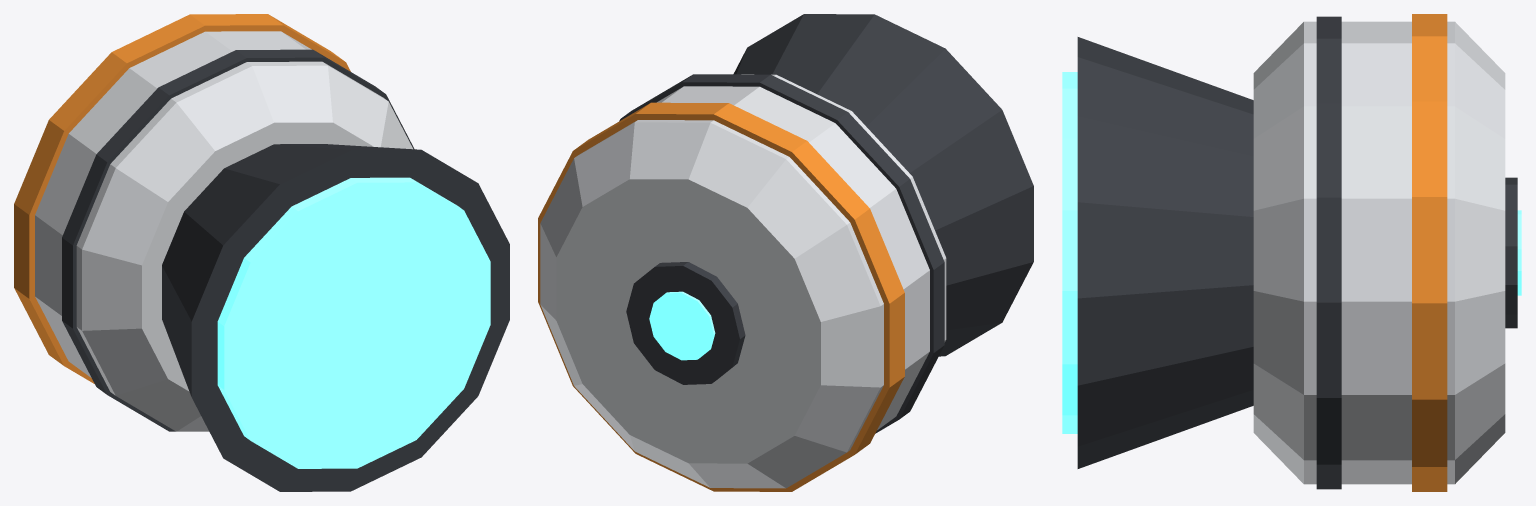
Rendered from thruster_medium.glb.
3 views of the same model, side by side, from view 1: azimuth 30°, elevation 25°; view 2: azimuth 150°, elevation 25°; view 3: azimuth 270°, elevation 25° (orthographic). The views are drawn at different scales.
Visible parts, largest first — view 1: thruster_medium; view 2: thruster_medium; view 3: thruster_medium.
Boxes of the visible parts, bbox=[...] form: thruster_medium: bbox=[14, 14, 509, 491]; thruster_medium: bbox=[538, 14, 1033, 491]; thruster_medium: bbox=[1062, 14, 1521, 491].
Bounding box in the file's own units: 0.9262 × 0.95 × 0.9125.
